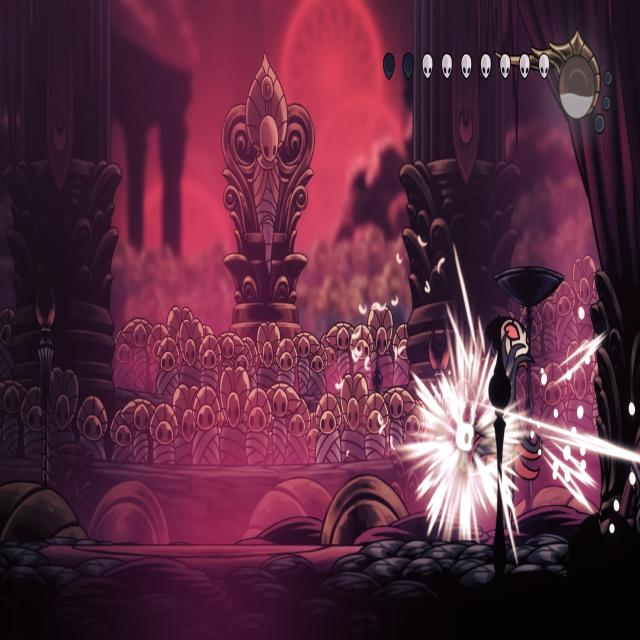Grimm: (472, 310, 545, 540)
Player: (449, 397, 478, 479)
